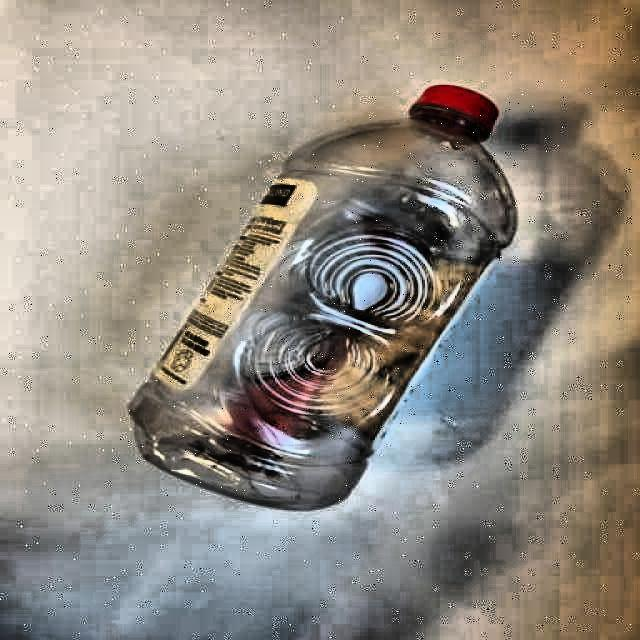plastic: (130, 86, 516, 509)
